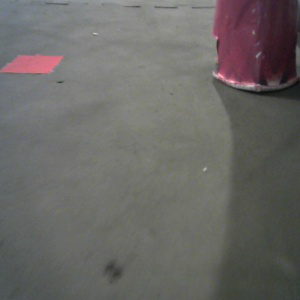Right: (209, 1, 300, 94)
